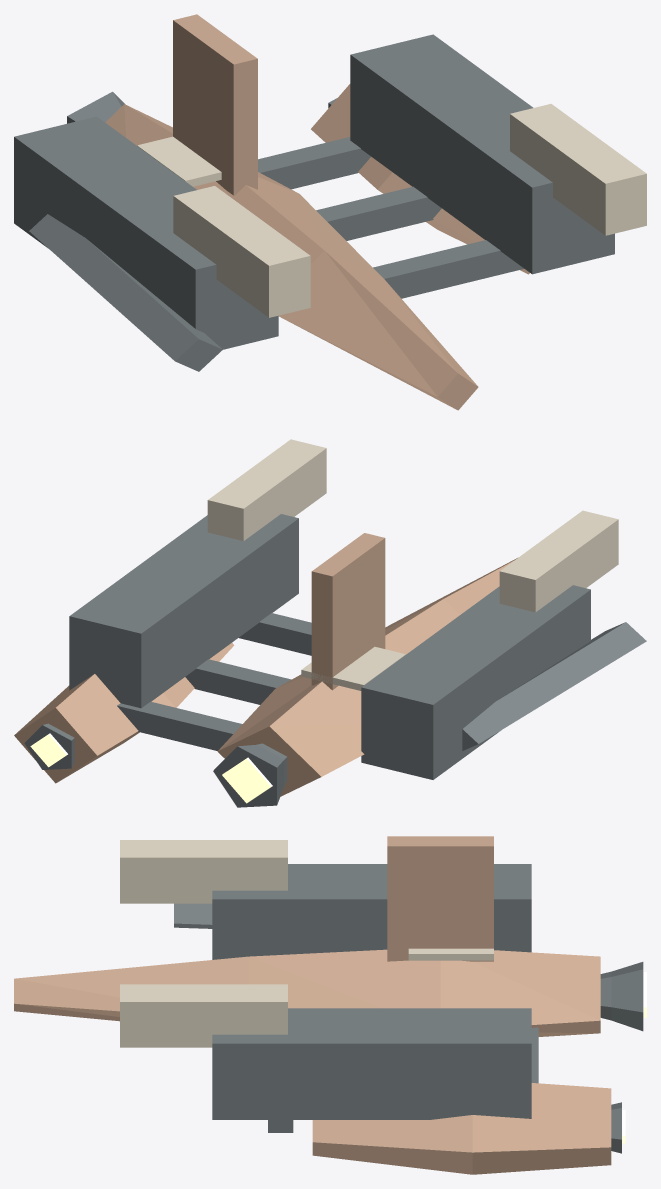
The picture shows the model from 3 angles, top to bottom: view 1: azimuth 30°, elevation 25°; view 2: azimuth 150°, elevation 25°; view 3: azimuth 270°, elevation 25°; orthographic projection. The views are drawn at different scales.
Size of the model in its own units: 11.89 by 6.05 by 15.06.
